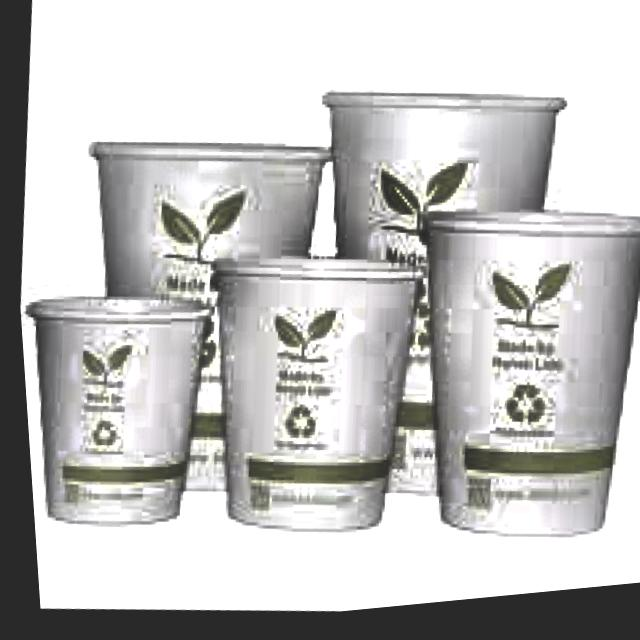Cup: (265, 70, 583, 532), (50, 119, 348, 520), (382, 196, 640, 578), (167, 234, 434, 559), (15, 280, 219, 549)
